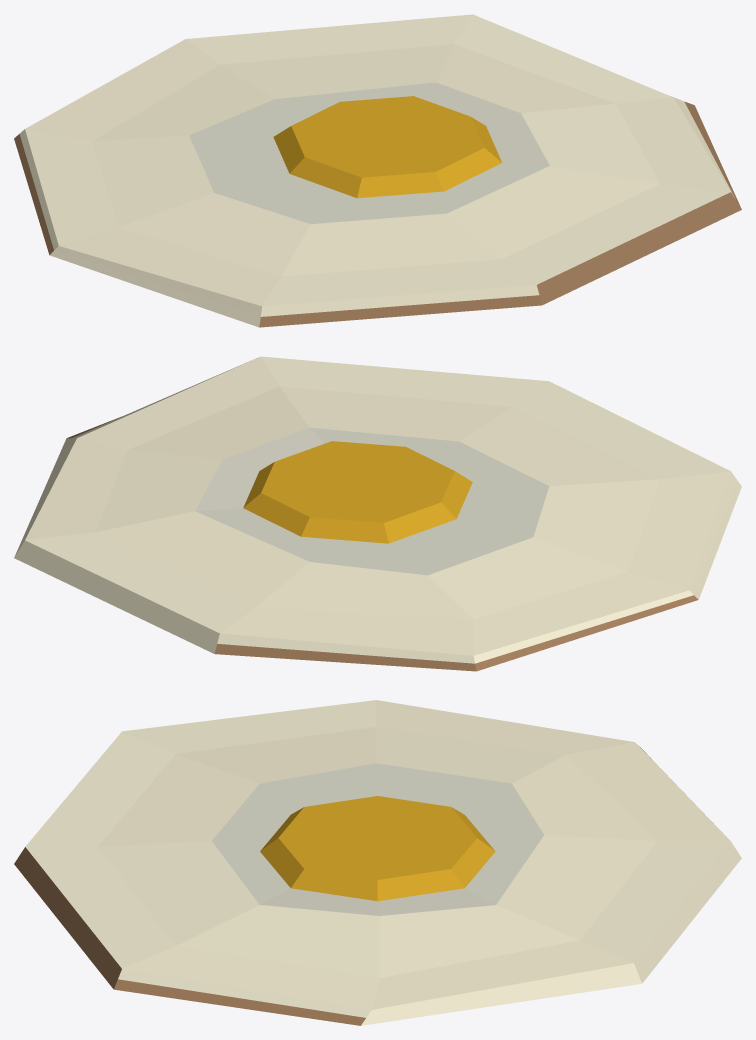
File: EggCooked.fbx
The picture shows the model from 3 angles, top to bottom: view 1: azimuth 30°, elevation 25°; view 2: azimuth 150°, elevation 25°; view 3: azimuth 270°, elevation 25°; orthographic projection. The views are drawn at different scales.
Visible parts, largest first — view 1: EggCooked; view 2: EggCooked; view 3: EggCooked.
Boxes of the visible parts, x1=… form: EggCooked: x1=14, y1=14, x2=741, y2=327; EggCooked: x1=14, y1=356, x2=741, y2=671; EggCooked: x1=14, y1=700, x2=741, y2=1025.
Bounding box in the file's own units: 201 × 10.6 × 191.
